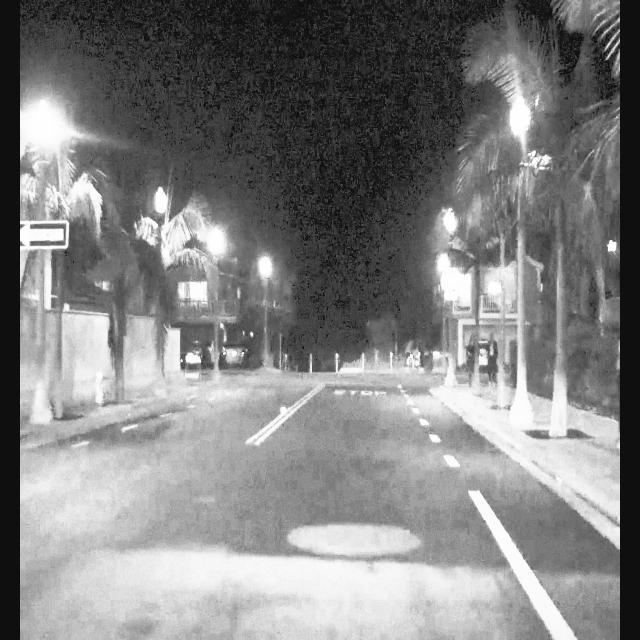Sign: (20, 222, 70, 249), (439, 263, 465, 302)
Tree: (543, 36, 572, 438)
